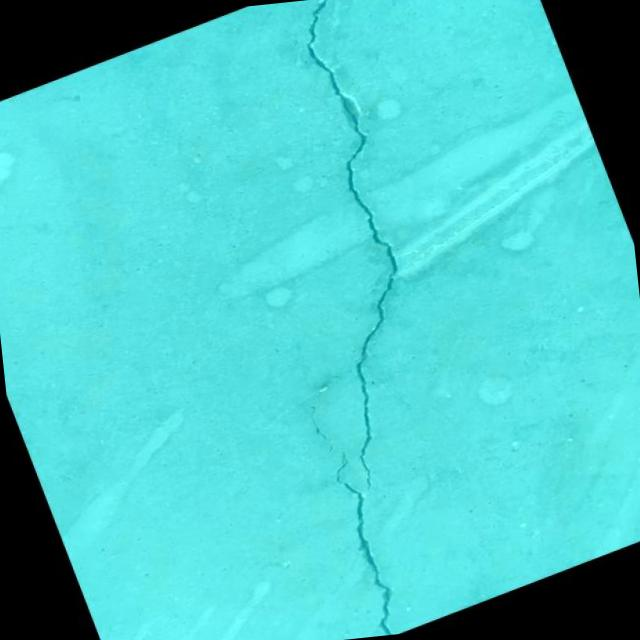crack: (186, 0, 525, 505), (285, 366, 432, 640)
